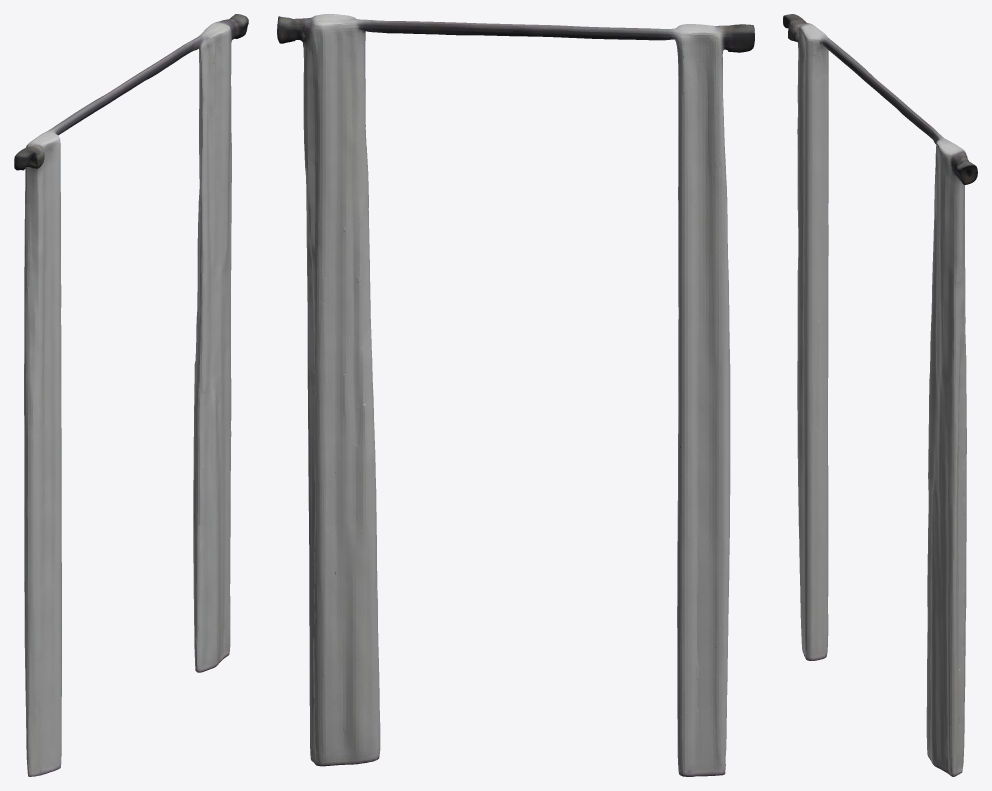
Rendered from white_curtains_on_left_window_000.glb.
The picture shows the model from 3 angles, left to right: view 1: azimuth 30°, elevation 25°; view 2: azimuth 150°, elevation 25°; view 3: azimuth 270°, elevation 25°; orthographic projection. The views are drawn at different scales.
Parts seen in each view (by area): view 1: phase2_final_white_curtains_on_left_window_000.obj; view 2: phase2_final_white_curtains_on_left_window_000.obj; view 3: phase2_final_white_curtains_on_left_window_000.obj.
Boxes of the visible parts, <box> form: phase2_final_white_curtains_on_left_window_000.obj: <box>14,14,248,776</box>; phase2_final_white_curtains_on_left_window_000.obj: <box>277,14,754,776</box>; phase2_final_white_curtains_on_left_window_000.obj: <box>783,14,977,776</box>.
Bounding box in the file's own units: 0.6534 × 1.24 × 0.3507.
Materials: 1 (1 with a texture image).
